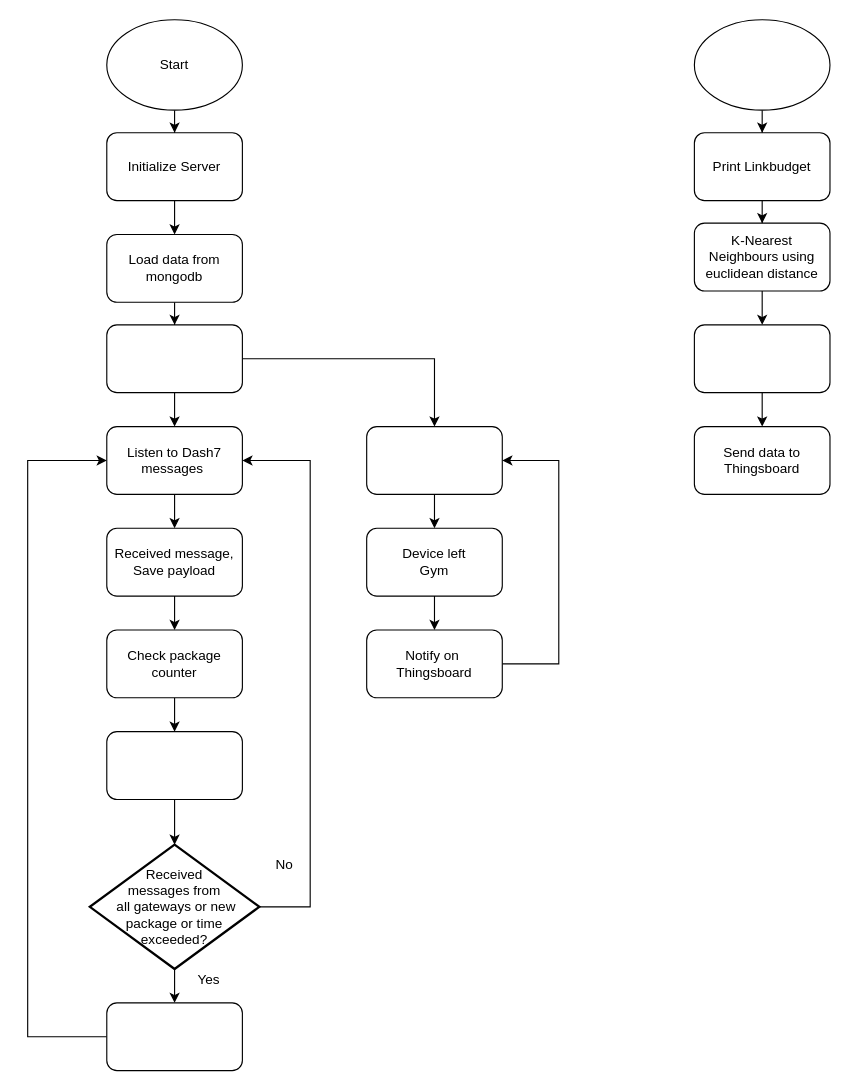
Some shapes in this 850 by 1090 pixel diagram are drawn without their labels. Each missing label, with the centre of its shape:
"Check Timer" belongs at point 174,765.
"Estimate location via classification" belongs at point 761,358.
"Listen to LoRaWAN messages" belongs at point 434,459.
"Localisation" belongs at point 761,64.
"Set variables, subscribe to Dash7 and LoRaWAN messages" belongs at point 174,358.
"Start localisation" belongs at point 174,1036.
